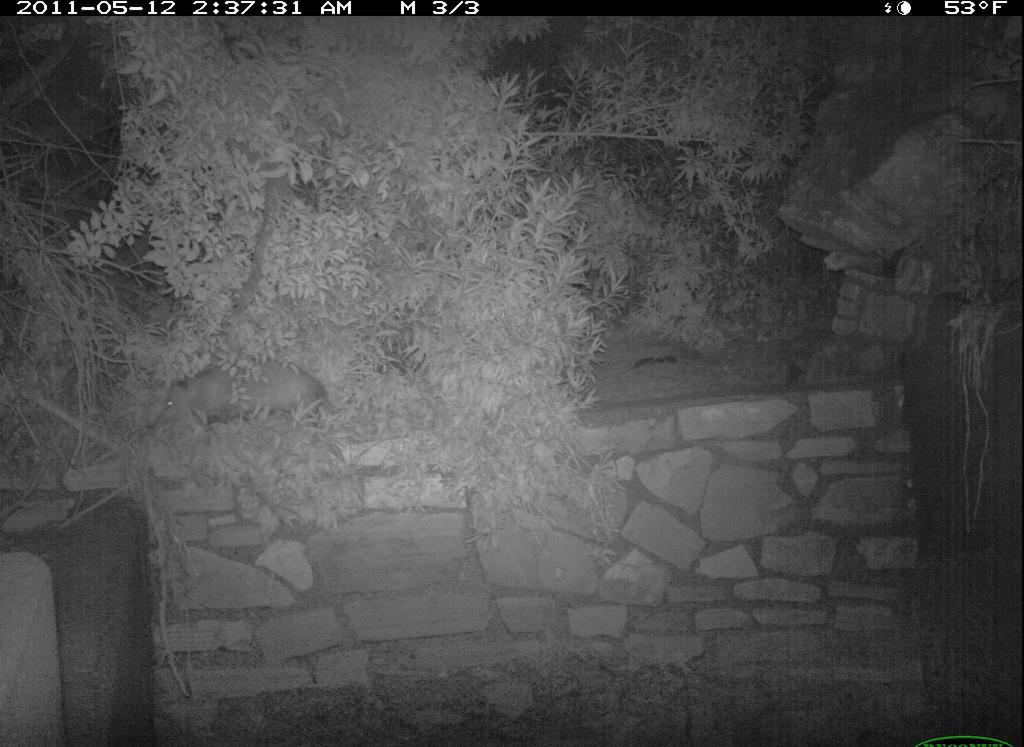opossum: (139, 363, 440, 445)
